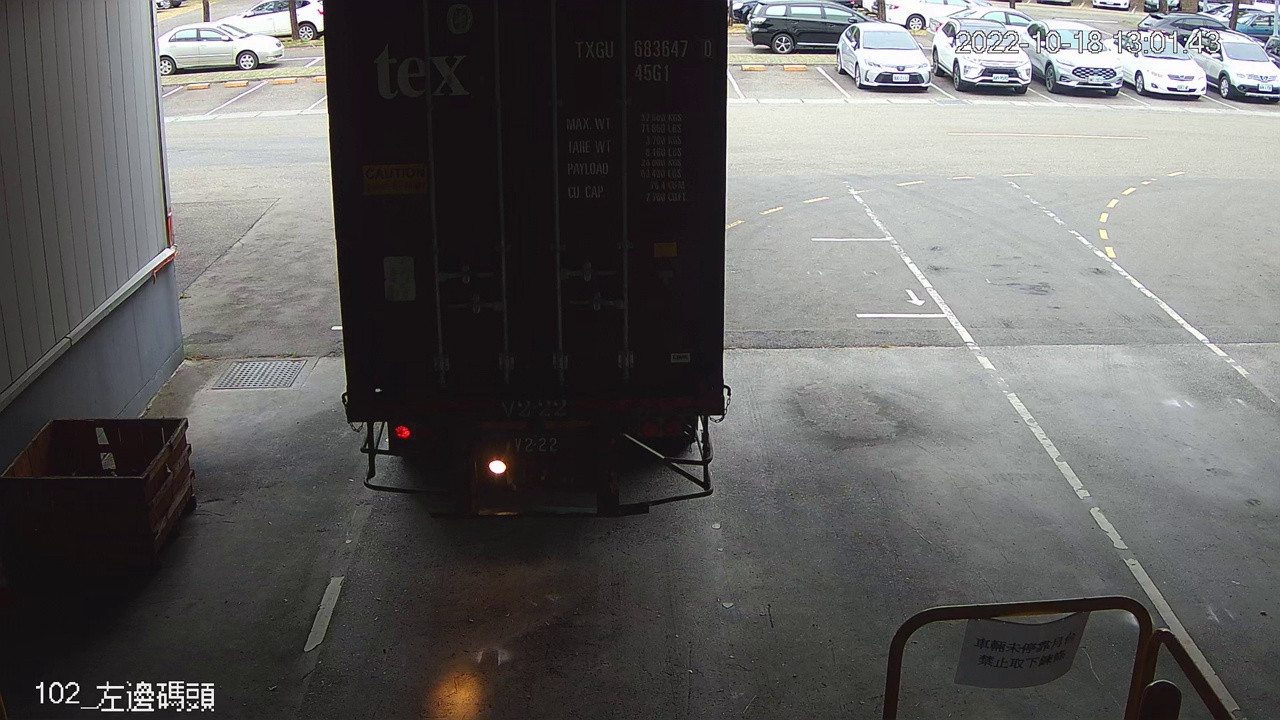container: (566, 33, 719, 89)
